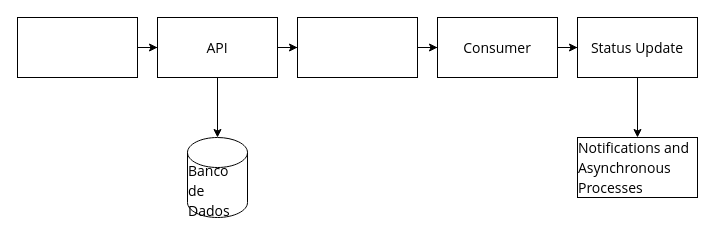
Some shapes in this 715 by 237 pixel diagram are drawn without their labels. The box of each missing label's shape, as (x1, y1, x2, y2) in pixels:
Evento (Mensageria): (296, 16, 418, 78)
Usuário (UI): (16, 16, 138, 78)
